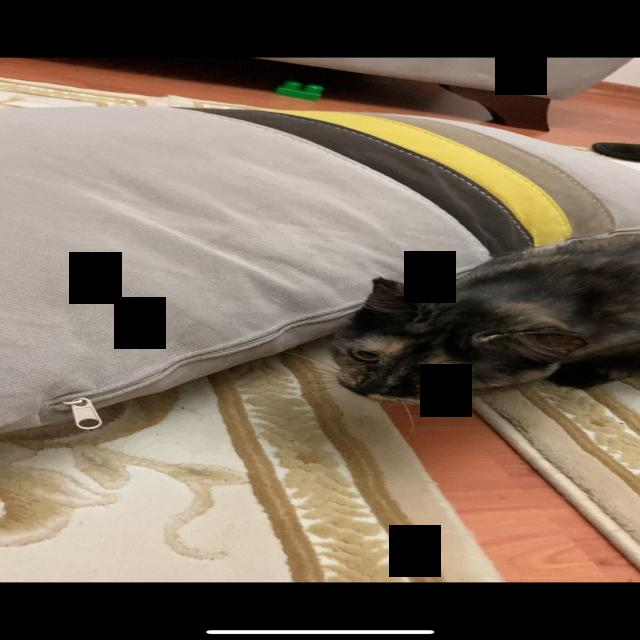authorized: (316, 240, 638, 405)
